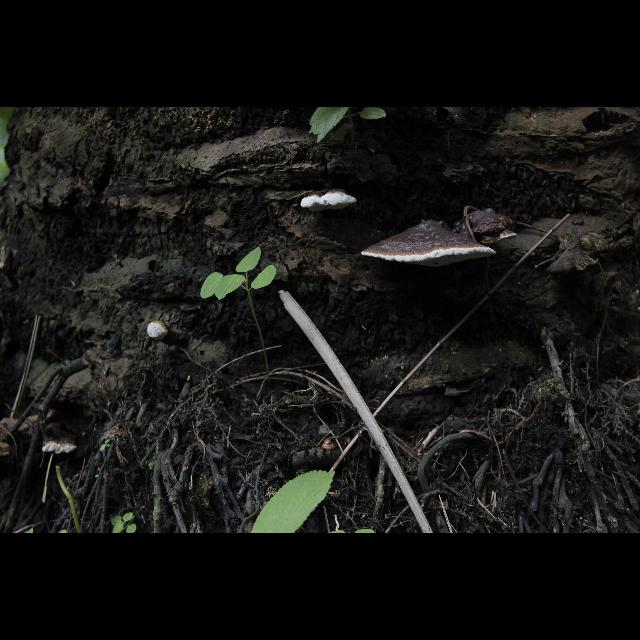ganoderma: (361, 219, 498, 269), (451, 208, 519, 246), (301, 189, 358, 214), (43, 432, 80, 456)
primordium: (148, 322, 170, 343)
